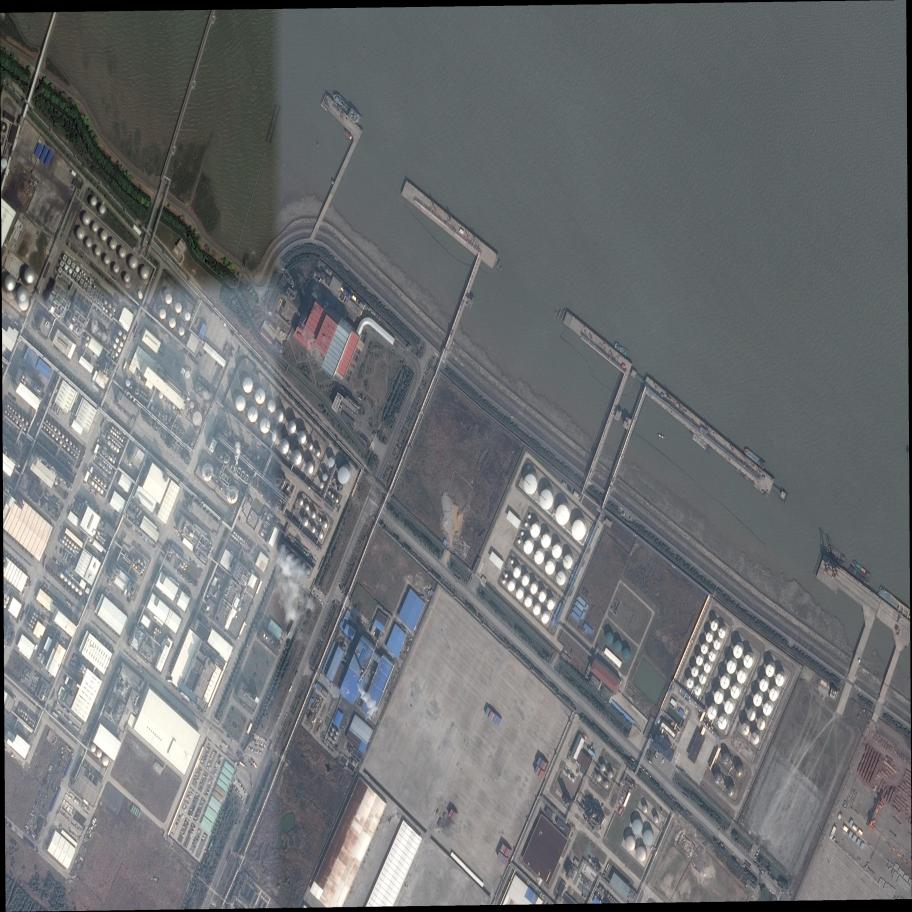ship: (330, 91, 365, 127), (845, 564, 872, 589), (741, 446, 768, 470), (687, 431, 712, 454), (850, 559, 872, 580), (824, 550, 846, 568), (826, 544, 847, 562), (612, 341, 630, 358), (751, 481, 768, 497), (734, 467, 750, 481), (656, 433, 666, 440)
storage-tank: (523, 474, 538, 495), (571, 520, 585, 541), (539, 490, 553, 510), (556, 505, 569, 526), (226, 485, 239, 504), (202, 463, 214, 481), (24, 267, 36, 284), (290, 449, 302, 465), (338, 467, 349, 484), (5, 275, 16, 291), (235, 395, 246, 411), (255, 389, 266, 404), (18, 286, 28, 302), (625, 835, 635, 851), (243, 377, 253, 393), (260, 418, 270, 434), (279, 439, 289, 455), (632, 819, 642, 834), (636, 847, 646, 862), (643, 830, 653, 845), (523, 540, 533, 555), (534, 550, 544, 565), (552, 544, 562, 559), (248, 407, 258, 422), (530, 524, 540, 538), (545, 561, 555, 575), (563, 555, 573, 569), (193, 411, 202, 426), (541, 534, 550, 548), (556, 572, 565, 586), (753, 693, 762, 707), (707, 706, 716, 720), (714, 691, 723, 705), (718, 716, 727, 730), (737, 670, 746, 684), (733, 645, 742, 659), (743, 655, 752, 669), (297, 430, 306, 444), (747, 708, 756, 721), (759, 679, 768, 692), (769, 688, 778, 701), (775, 674, 784, 687), (720, 676, 729, 689), (724, 701, 733, 714), (731, 686, 740, 699), (727, 661, 736, 674), (726, 785, 735, 798), (287, 421, 296, 434), (130, 255, 138, 269), (276, 409, 284, 423), (713, 773, 722, 785), (141, 267, 150, 279), (83, 212, 91, 225), (77, 227, 85, 240), (763, 703, 771, 716), (757, 718, 765, 731), (751, 732, 759, 745), (741, 723, 749, 736), (722, 753, 730, 766), (605, 633, 613, 645), (766, 665, 774, 677), (735, 766, 743, 778), (268, 400, 276, 412), (306, 462, 314, 474), (614, 641, 622, 652), (623, 648, 630, 660), (522, 575, 529, 587), (533, 604, 540, 616), (547, 599, 554, 611), (711, 620, 718, 632), (101, 230, 108, 241), (120, 247, 127, 258), (687, 678, 694, 689), (516, 589, 523, 600), (530, 583, 537, 594), (524, 597, 531, 608), (542, 613, 549, 624), (695, 685, 702, 696), (701, 644, 708, 655), (709, 651, 716, 662), (706, 632, 713, 643), (714, 640, 721, 651), (513, 567, 520, 578), (175, 302, 182, 313), (169, 317, 176, 328), (508, 580, 514, 592), (110, 239, 117, 249), (113, 263, 120, 273), (124, 273, 131, 283), (539, 592, 546, 602), (699, 674, 706, 684), (696, 656, 703, 666), (704, 663, 711, 673), (159, 309, 166, 319), (719, 628, 725, 639), (1, 158, 7, 169), (103, 756, 109, 766), (91, 196, 97, 206), (100, 204, 106, 214), (86, 238, 92, 248), (93, 222, 99, 232), (95, 246, 101, 256), (104, 254, 110, 264), (692, 667, 698, 677), (166, 294, 172, 304), (179, 326, 185, 336), (302, 517, 308, 527), (328, 457, 334, 467), (607, 771, 613, 779), (185, 312, 191, 320), (325, 276, 331, 284), (91, 744, 96, 753), (97, 750, 102, 758), (596, 774, 601, 782), (604, 781, 609, 789), (653, 816, 658, 824), (185, 371, 190, 379), (320, 271, 325, 279), (311, 511, 316, 519), (308, 443, 313, 451), (315, 449, 320, 457), (298, 498, 303, 506), (126, 380, 131, 387), (642, 806, 647, 813), (135, 388, 140, 395), (322, 474, 327, 481), (319, 482, 324, 489), (304, 504, 309, 511), (601, 764, 605, 772), (323, 521, 327, 529), (311, 525, 315, 533), (58, 267, 63, 273), (63, 254, 67, 261), (159, 392, 163, 399), (319, 532, 323, 539), (347, 293, 351, 300), (60, 573, 64, 579), (60, 261, 64, 267), (67, 259, 71, 265), (118, 330, 122, 336), (123, 334, 127, 340), (113, 343, 117, 349), (139, 294, 143, 300), (336, 486, 340, 492), (76, 267, 80, 272), (80, 279, 84, 284), (64, 265, 68, 270), (91, 290, 95, 295), (120, 342, 124, 347), (343, 290, 347, 295), (68, 580, 71, 586), (98, 477, 101, 483), (75, 588, 79, 592), (64, 577, 67, 582), (72, 584, 75, 589), (79, 591, 82, 596), (92, 481, 95, 486), (114, 446, 117, 451), (111, 443, 114, 448), (72, 263, 75, 268), (84, 283, 87, 288), (109, 303, 112, 308), (109, 312, 112, 317), (113, 307, 116, 312), (88, 286, 91, 291), (73, 272, 76, 277), (69, 269, 72, 274), (58, 430, 61, 435), (56, 436, 59, 441), (62, 434, 65, 439), (116, 338, 119, 343), (118, 348, 121, 353), (571, 777, 574, 782), (319, 517, 322, 522), (332, 740, 335, 745), (518, 539, 521, 544), (521, 531, 524, 536), (331, 493, 334, 498), (335, 498, 338, 503), (62, 540, 65, 544), (66, 538, 69, 542), (70, 547, 73, 551), (4, 594, 7, 598), (20, 709, 23, 713), (121, 439, 124, 443), (116, 449, 119, 453), (94, 475, 97, 479), (101, 481, 104, 485), (101, 490, 104, 494), (100, 462, 103, 466), (107, 456, 110, 460), (112, 460, 115, 464), (108, 441, 111, 445), (77, 276, 80, 280), (105, 300, 108, 304), (19, 423, 22, 427), (23, 427, 26, 431), (54, 427, 57, 431), (52, 433, 55, 437), (59, 440, 62, 444), (63, 443, 66, 447), (69, 441, 72, 445), (67, 447, 70, 451), (15, 420, 18, 424), (85, 343, 88, 347), (22, 375, 25, 379), (23, 381, 26, 385), (18, 414, 21, 418), (21, 417, 24, 421), (594, 895, 597, 899), (607, 893, 610, 897), (567, 774, 570, 778), (528, 515, 531, 519), (172, 405, 175, 409), (132, 563, 135, 567), (135, 565, 138, 569), (525, 523, 528, 527), (332, 728, 335, 732), (330, 732, 333, 736), (502, 580, 505, 584), (505, 574, 508, 578), (511, 560, 514, 564), (328, 491, 331, 495), (7, 596, 9, 601), (4, 604, 6, 609), (95, 484, 97, 489), (98, 486, 100, 491), (66, 437, 68, 442), (336, 731, 338, 736), (67, 545, 70, 548), (5, 601, 8, 604), (12, 417, 15, 420), (599, 887, 602, 890), (65, 542, 67, 546), (64, 536, 66, 540), (69, 540, 71, 544), (72, 543, 74, 547), (74, 545, 76, 549), (98, 532, 100, 536), (108, 435, 110, 439), (119, 437, 121, 441), (104, 484, 106, 488), (103, 465, 105, 469), (109, 470, 111, 474), (110, 458, 112, 462), (76, 455, 78, 459), (103, 307, 105, 311), (106, 309, 108, 313), (49, 430, 51, 434), (76, 447, 78, 451), (10, 414, 12, 418), (102, 295, 104, 299), (8, 412, 10, 416), (116, 353, 118, 357), (87, 336, 89, 340), (21, 379, 23, 383), (26, 421, 28, 425), (602, 889, 604, 893), (589, 858, 591, 862), (141, 390, 143, 394), (138, 559, 140, 563), (141, 562, 143, 566), (334, 736, 336, 740), (329, 737, 331, 741), (73, 550, 75, 553), (96, 536, 98, 539), (29, 717, 31, 720), (27, 715, 29, 718), (26, 718, 28, 721), (24, 716, 26, 719), (36, 615, 38, 618), (34, 618, 36, 621), (31, 620, 33, 623), (33, 622, 35, 625), (29, 624, 31, 627), (32, 625, 34, 628), (23, 711, 25, 714), (25, 713, 27, 716), (119, 446, 121, 449), (111, 430, 113, 433), (113, 432, 115, 435), (115, 434, 117, 437), (117, 435, 119, 438), (112, 427, 114, 430), (114, 429, 116, 432), (123, 436, 125, 439), (130, 386, 132, 389), (154, 631, 156, 634), (157, 629, 159, 632), (112, 439, 114, 442), (106, 468, 108, 471), (105, 462, 107, 465), (34, 613, 36, 616), (78, 450, 80, 453), (80, 272, 82, 275), (82, 270, 84, 273), (82, 274, 84, 277), (84, 273, 86, 276), (86, 278, 88, 281), (94, 285, 96, 288), (96, 288, 98, 291), (46, 420, 48, 423), (44, 426, 46, 429), (49, 423, 51, 426), (51, 425, 53, 428), (73, 445, 75, 448), (71, 451, 73, 454), (113, 356, 115, 359), (7, 405, 9, 408), (10, 407, 12, 410), (15, 411, 17, 414), (5, 410, 7, 413), (123, 557, 125, 560), (614, 899, 616, 902), (610, 896, 612, 899), (612, 897, 614, 900), (615, 901, 617, 904), (145, 394, 147, 397), (183, 563, 185, 566), (182, 566, 184, 569), (185, 565, 187, 568), (232, 535, 234, 538), (143, 392, 145, 395), (135, 561, 137, 564), (143, 569, 145, 572), (139, 376, 141, 379), (243, 540, 245, 543), (240, 542, 242, 545), (244, 545, 246, 548), (31, 719, 33, 721), (125, 559, 127, 561), (98, 538, 100, 540), (99, 536, 101, 538), (32, 617, 34, 619), (22, 715, 24, 717), (102, 538, 104, 540), (117, 430, 118, 434), (118, 433, 120, 435), (155, 629, 157, 631), (103, 461, 105, 463), (107, 464, 109, 466), (109, 466, 111, 468), (84, 277, 86, 279), (90, 278, 92, 280), (46, 429, 48, 431), (12, 410, 14, 412), (125, 554, 127, 556), (184, 569, 186, 571), (233, 532, 235, 534), (127, 561, 129, 563), (234, 537, 236, 539), (236, 539, 238, 541), (242, 544, 244, 546), (33, 724, 34, 727), (77, 547, 78, 550), (104, 539, 105, 542), (160, 631, 161, 634), (111, 467, 112, 470), (88, 280, 89, 283), (90, 281, 91, 284), (99, 290, 100, 293), (74, 453, 75, 456), (236, 533, 237, 536), (138, 565, 139, 568), (144, 566, 145, 569), (238, 535, 239, 538), (240, 537, 241, 540), (238, 540, 239, 543), (33, 720, 34, 722), (30, 722, 31, 724), (101, 537, 102, 539), (114, 441, 115, 443), (116, 443, 117, 445), (118, 444, 119, 446), (127, 555, 128, 557), (129, 562, 130, 564), (142, 572, 143, 574), (242, 539, 243, 541), (246, 543, 247, 545)
